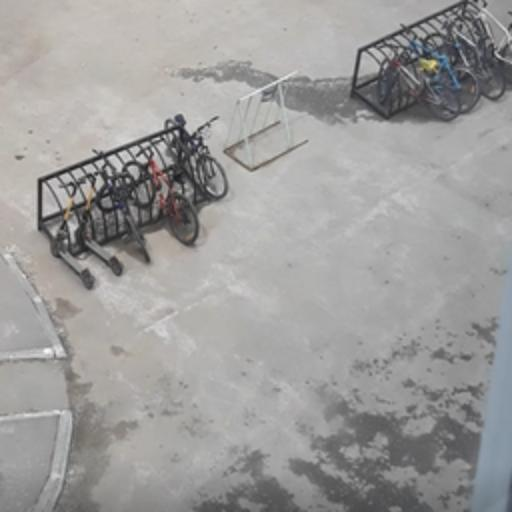bike: (120, 132, 200, 244), (394, 14, 480, 114), (370, 40, 456, 126), (158, 112, 230, 200)
